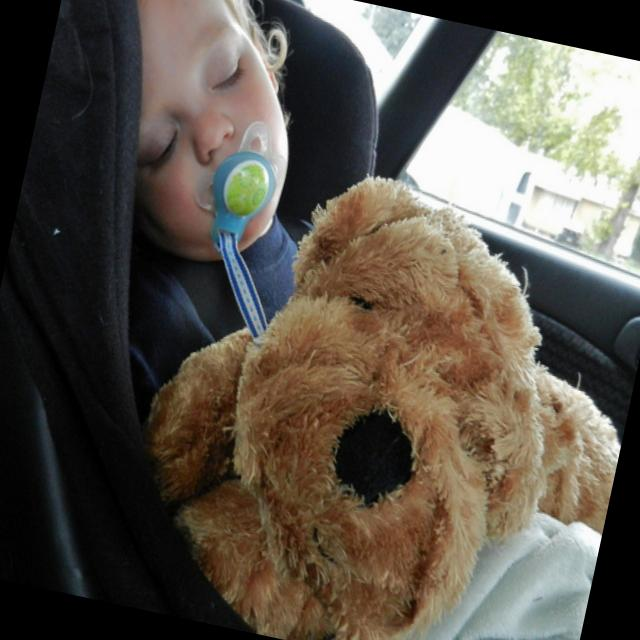Vehicle: (50, 0, 640, 427)
